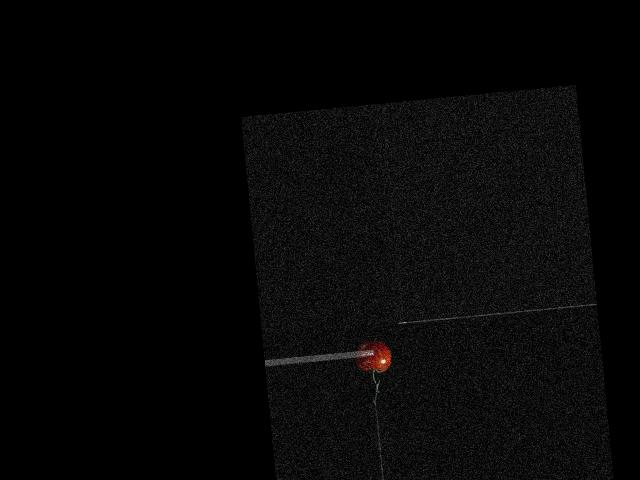tomato: (354, 340, 392, 373)
